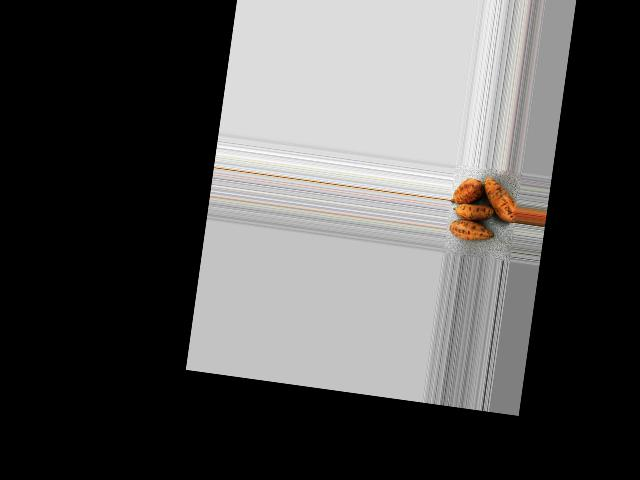sweet_potato: (479, 173, 521, 227)
